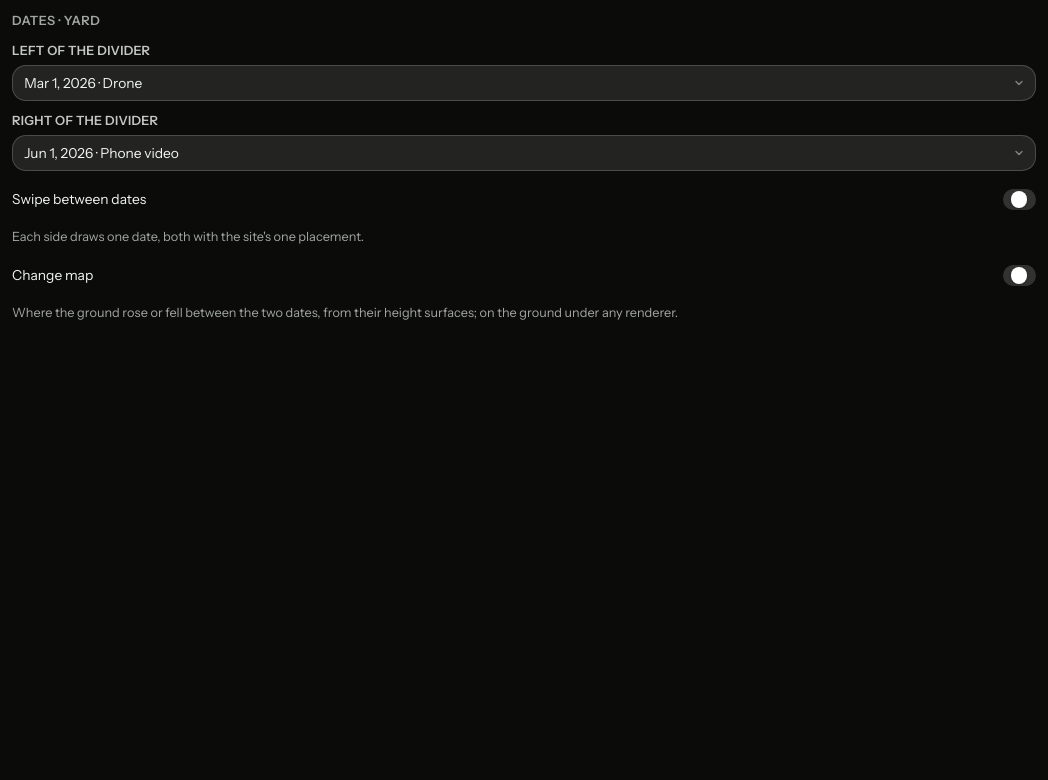
Test case: the drape and its legend › draws the ground and keys it: counts, low confidence, derived, its floor, uncalibrated, verdicts
The image size is (1048, 780).
Click the switch named "Change map" in the row of "Change map": {"x": 1019, "y": 276} top-left (1003, 265), bottom-right (1036, 286)
(page scrolled)
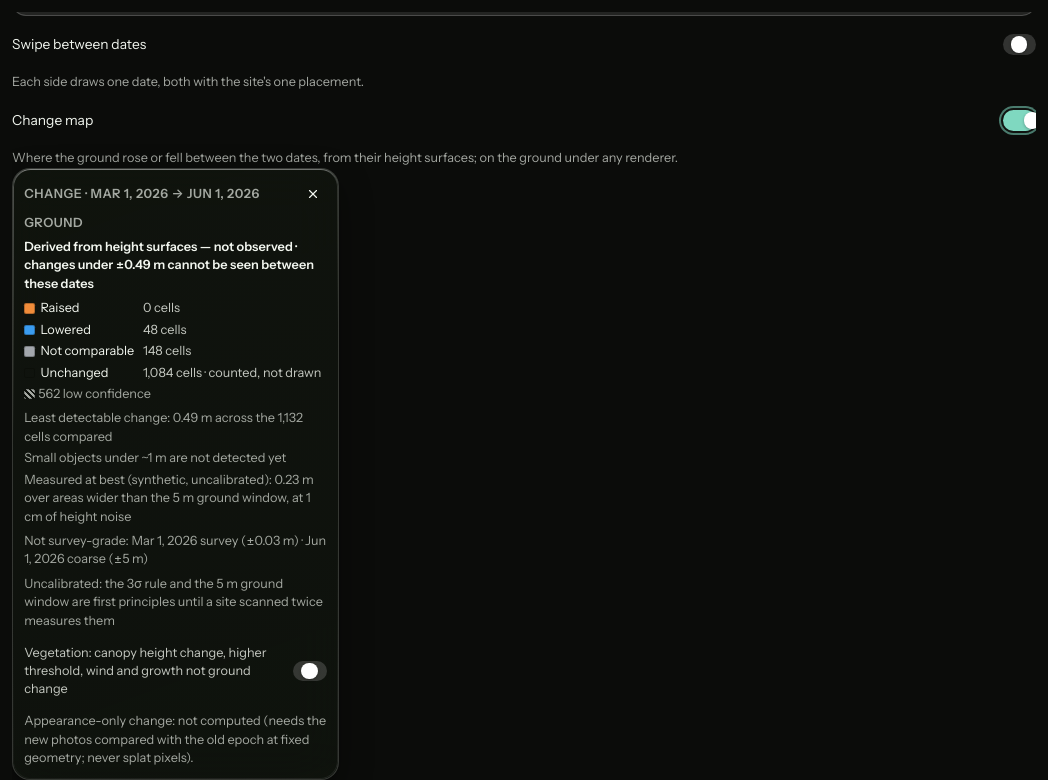
Expected: the text with test id "change-drape-label" shows "Derived from height surfaces — not observed · changes under ±0.49 m cannot be seen between these dates", top-left (24, 239), bottom-right (314, 291)
Expected: the element with test id "change-drape" shows "Mar 1, 2026 → Jun 1, 2026", top-left (90, 186), bottom-right (260, 200)
Expected: the list item with test id "change-row-raised" reads "Raised 0 cells", top-left (24, 300), bottom-right (180, 315)
